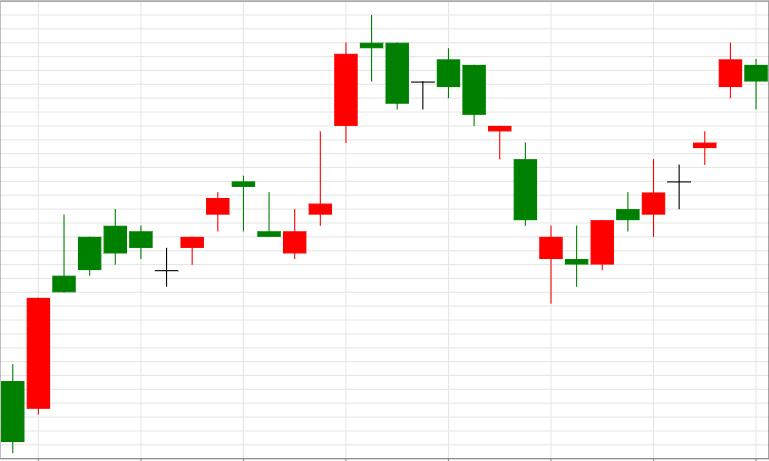evening_star_fall: (258, 15, 409, 259)
